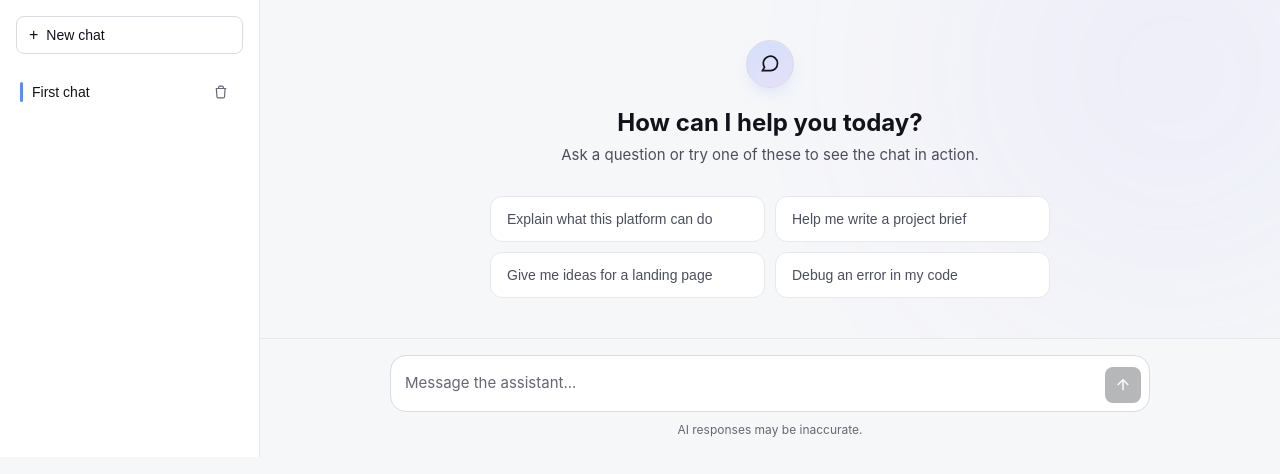
Test case: Assistant — sending messages › keeps the optimistic message and appends an error message when sending fails
The image size is (1280, 474).
expect the heading "How can I help you today?" is shown: met, box [617,108,923,137]
Click the button "Debug an error in my code" at point(912, 275), box [775,252,1050,298]
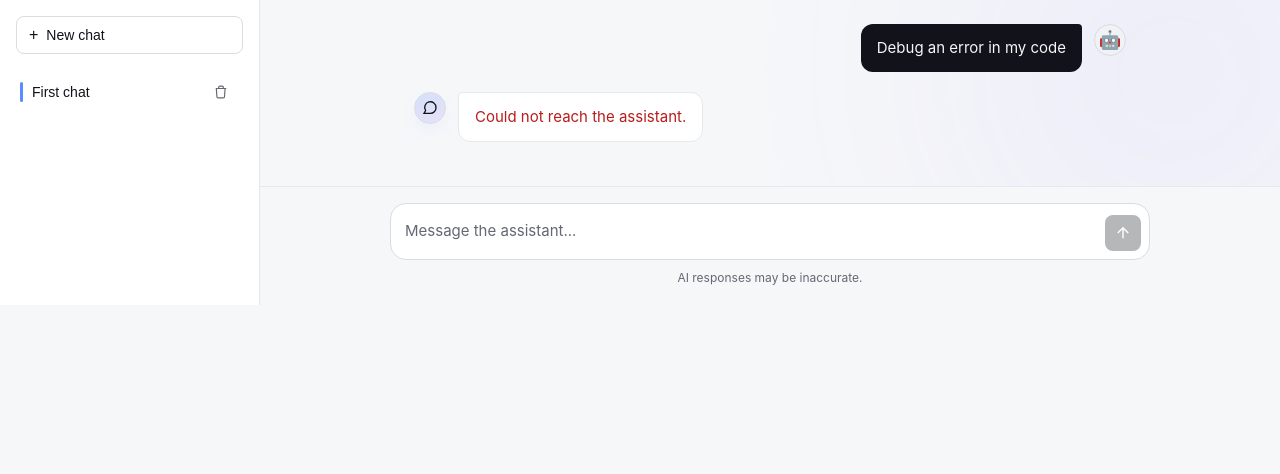
expect the text "Debug an error in my code" is shown: met, box [861,24,1082,72]
expect the text "Could not reach the assistant." is shown: met, box [458,92,703,142]
